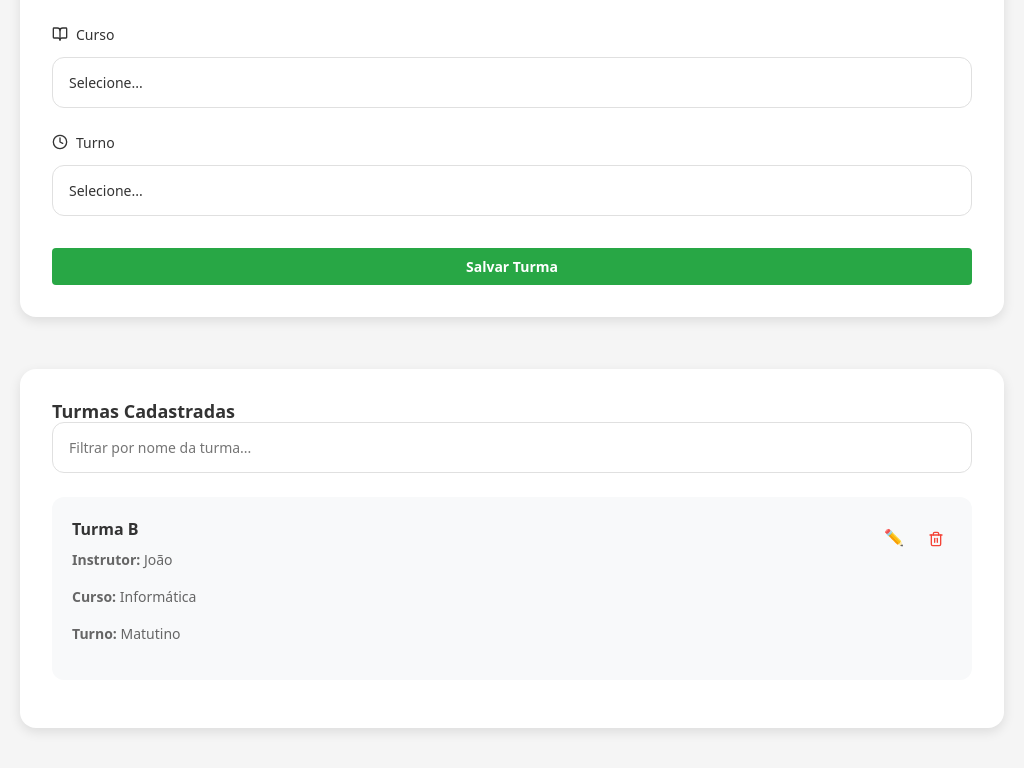
CadastroDeTurma › aciona modo de edição corretamente
The width and height of the screenshot is (1024, 768).
(page scrolled)
Expected: the text "Turma B" is shown, x1=72 y1=518 x2=138 y2=540
Step 1. Click the button titled "Editar" → (894, 537), box x1=876 y1=517 x2=912 y2=557
(page scrolled)
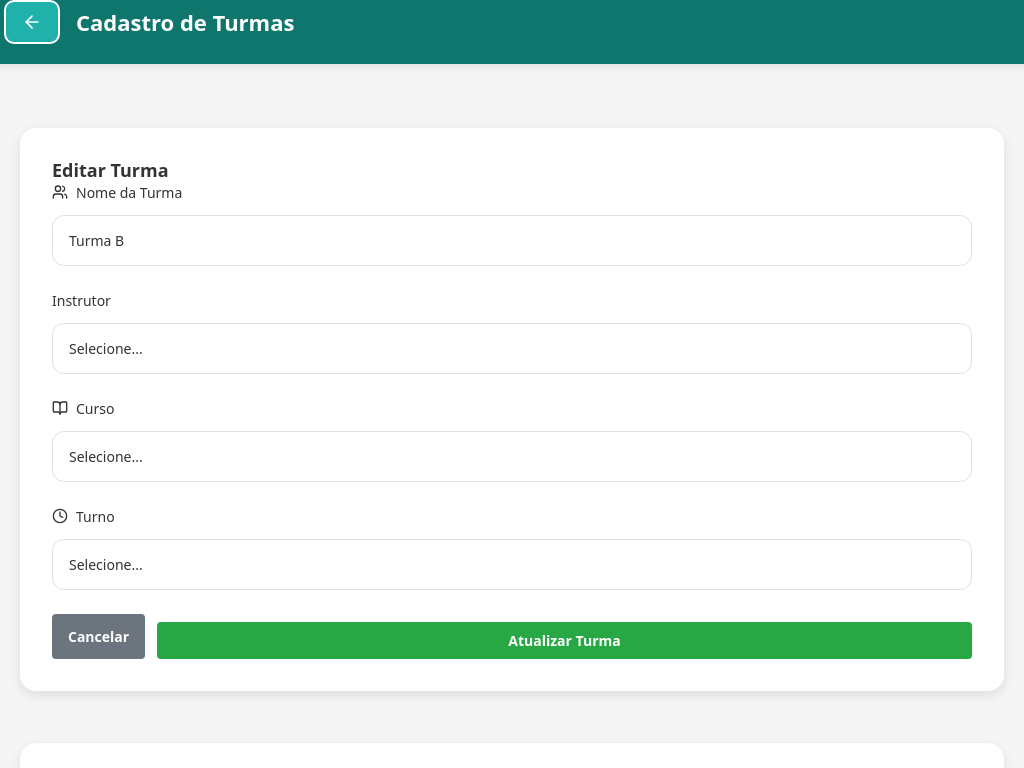
Result: the field showing "Turma B" is shown at x1=52 y1=215 x2=972 y2=266
